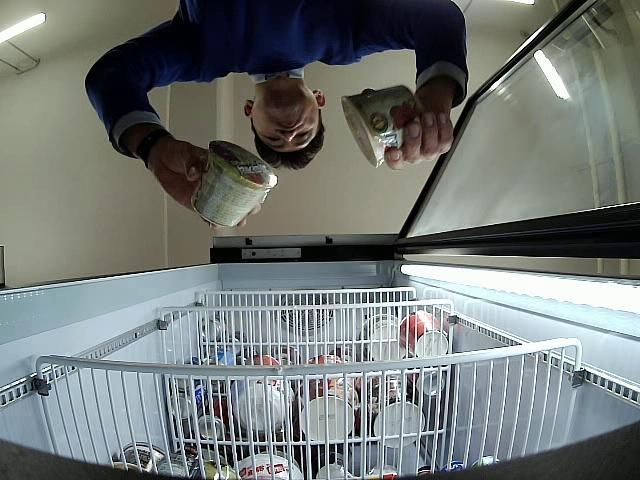04_chapagetti_S: (191, 140, 278, 228), (341, 84, 421, 168)
